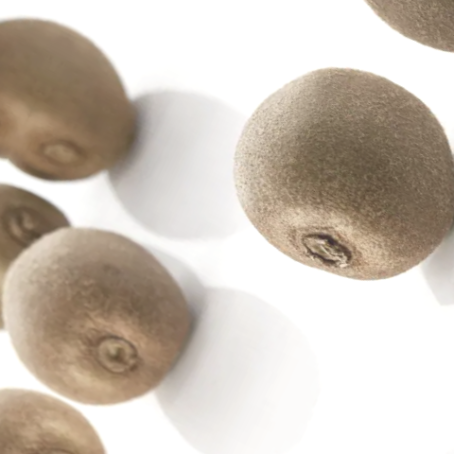kiwi: (178, 8, 454, 339), (0, 174, 243, 445)
